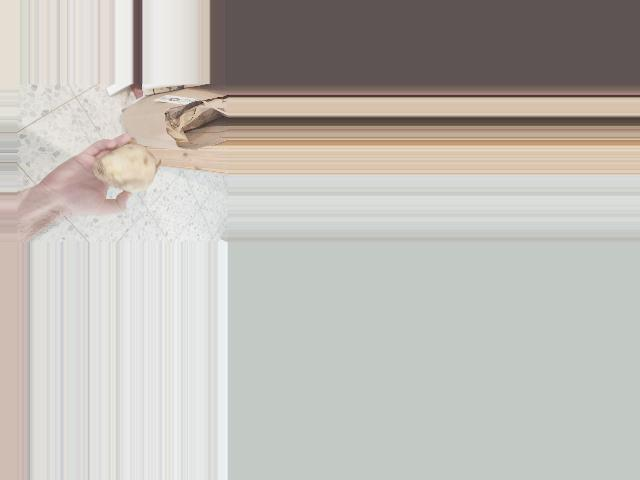onion: (90, 140, 159, 195)
